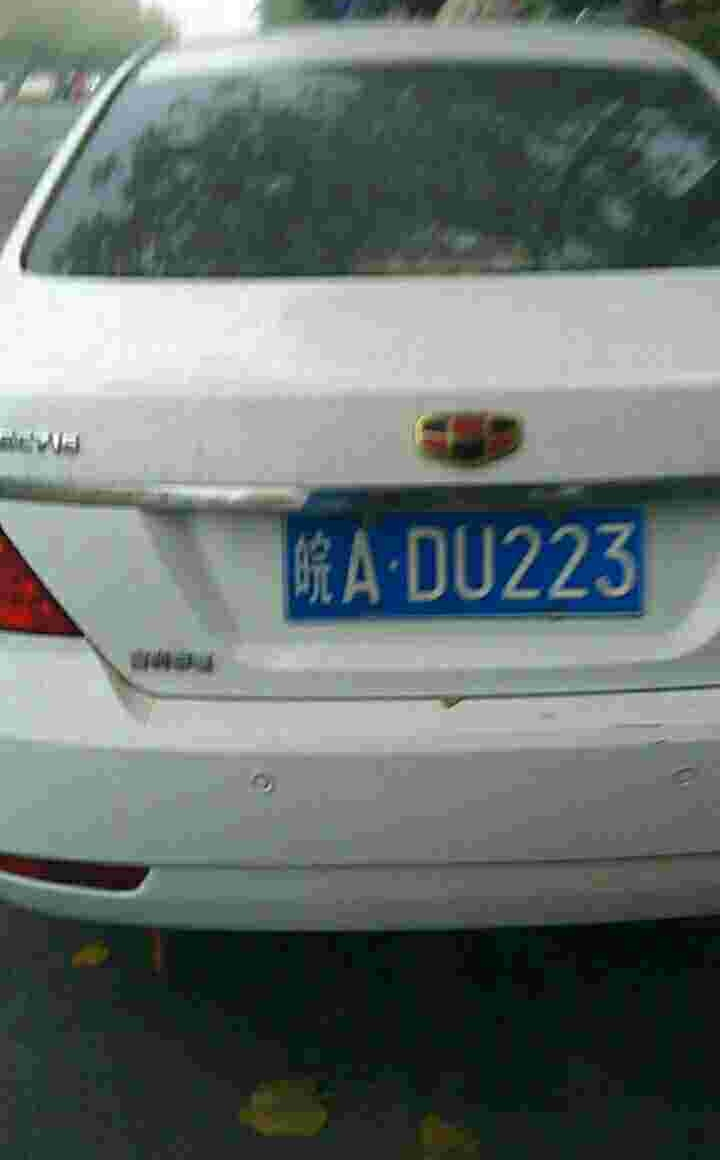license_plate: (283, 499, 648, 630)
